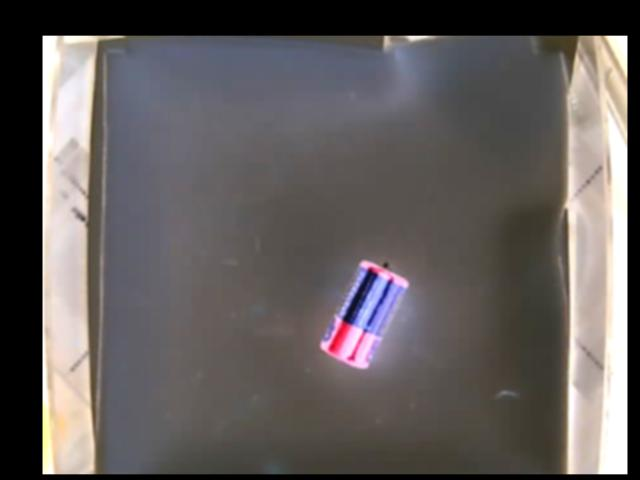Battery: (318, 258, 409, 368)
